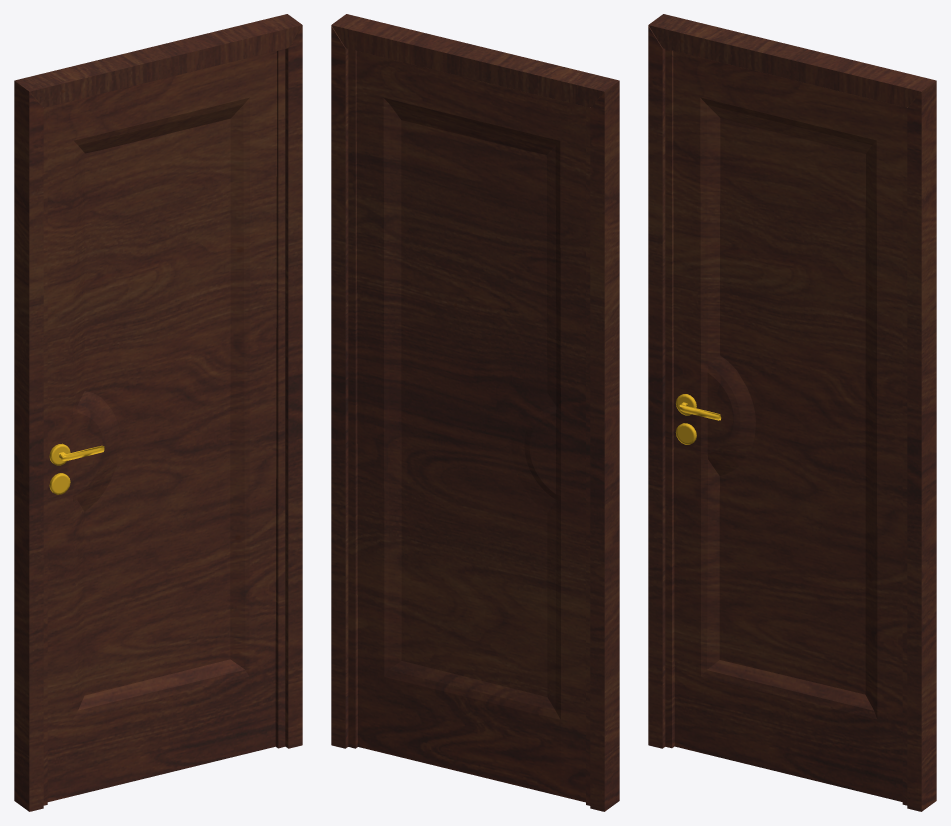
The model's file is PUERTA44_ALESSANDRIA.glb.
The picture shows the model from 3 angles, left to right: view 1: azimuth 30°, elevation 25°; view 2: azimuth 150°, elevation 25°; view 3: azimuth 330°, elevation 25°; orthographic projection.
Parts seen in each view (by area): view 1: Puerta44_ALESSANDRIA, Puerta44_Marco, Puerta44_Cerradura; view 2: Puerta44_ALESSANDRIA, Puerta44_Marco; view 3: Puerta44_ALESSANDRIA, Puerta44_Marco, Puerta44_Cerradura.
Boxes of the visible parts, <box> form: Puerta44_ALESSANDRIA: <box>43,49,285,805</box>; Puerta44_Marco: <box>14,14,302,811</box>; Puerta44_Cerradura: <box>49,443,104,494</box>; Puerta44_ALESSANDRIA: <box>348,49,590,805</box>; Puerta44_Marco: <box>331,14,619,811</box>; Puerta44_ALESSANDRIA: <box>665,49,907,805</box>; Puerta44_Marco: <box>648,14,936,811</box>; Puerta44_Cerradura: <box>675,394,721,444</box>.
Bounding box in the file's own units: 769 × 1936 × 85.
3 materials, 2 textured.
